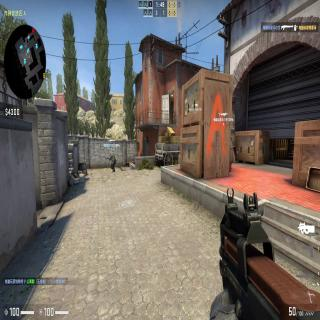CT-Body: (108, 151, 116, 172)
CT-Head: (110, 152, 112, 155)
